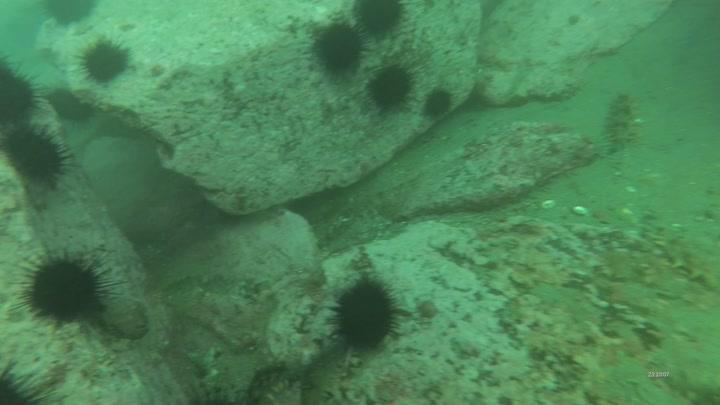urchin: (322, 273, 408, 361), (19, 248, 111, 322), (5, 127, 71, 190), (313, 21, 371, 76), (1, 56, 44, 130), (77, 37, 131, 85), (368, 63, 416, 112), (351, 1, 407, 41), (39, 1, 99, 28), (421, 86, 454, 124)
